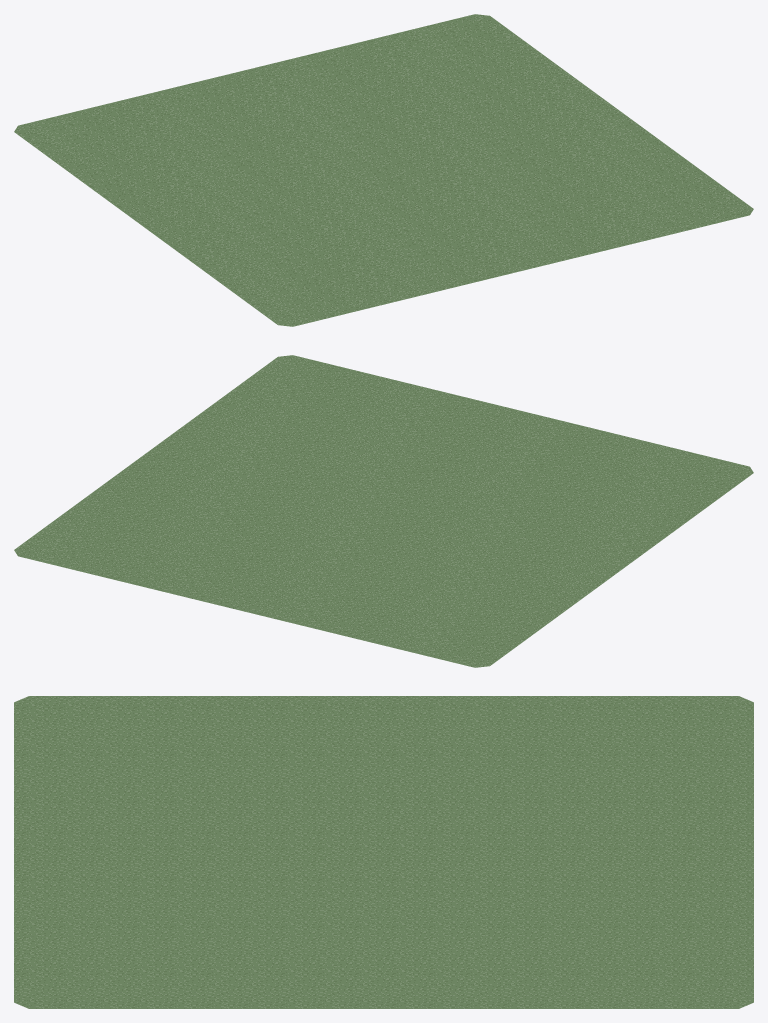
File: kd_stage_135d18_4_115.glb
The picture shows the model from 3 angles, top to bottom: view 1: azimuth 30°, elevation 25°; view 2: azimuth 150°, elevation 25°; view 3: azimuth 270°, elevation 25°; orthographic projection. The views are drawn at different scales.
Parts seen in each view (by area): view 1: kd_stage_135d18_4_115; view 2: kd_stage_135d18_4_115; view 3: kd_stage_135d18_4_115.
Part boxes in pixels (bbox=[...]): kd_stage_135d18_4_115: bbox=[14, 14, 753, 326]; kd_stage_135d18_4_115: bbox=[14, 355, 753, 667]; kd_stage_135d18_4_115: bbox=[14, 696, 753, 1008].
Size of the model in its own units: 1.08 by 5.96e-08 by 1.08.
Materials: 1 (1 with a texture image).
